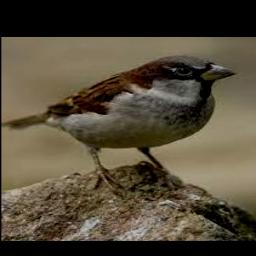Sparrow: (1, 56, 238, 191)
